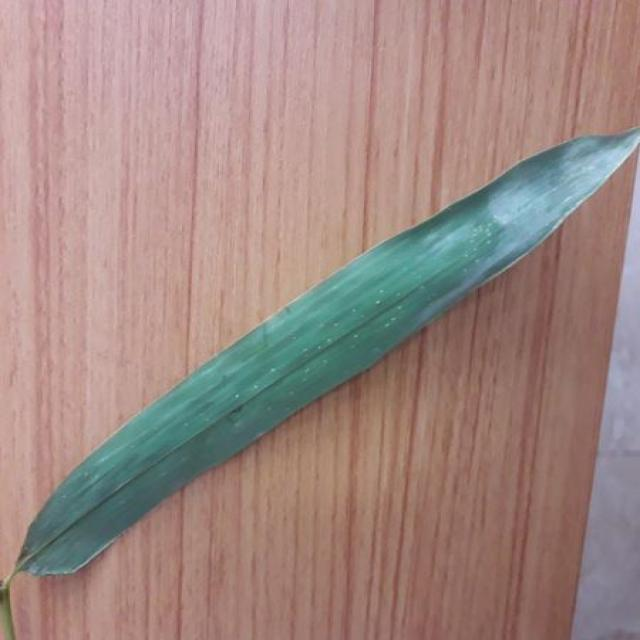Bamboo: (13, 129, 638, 574)
